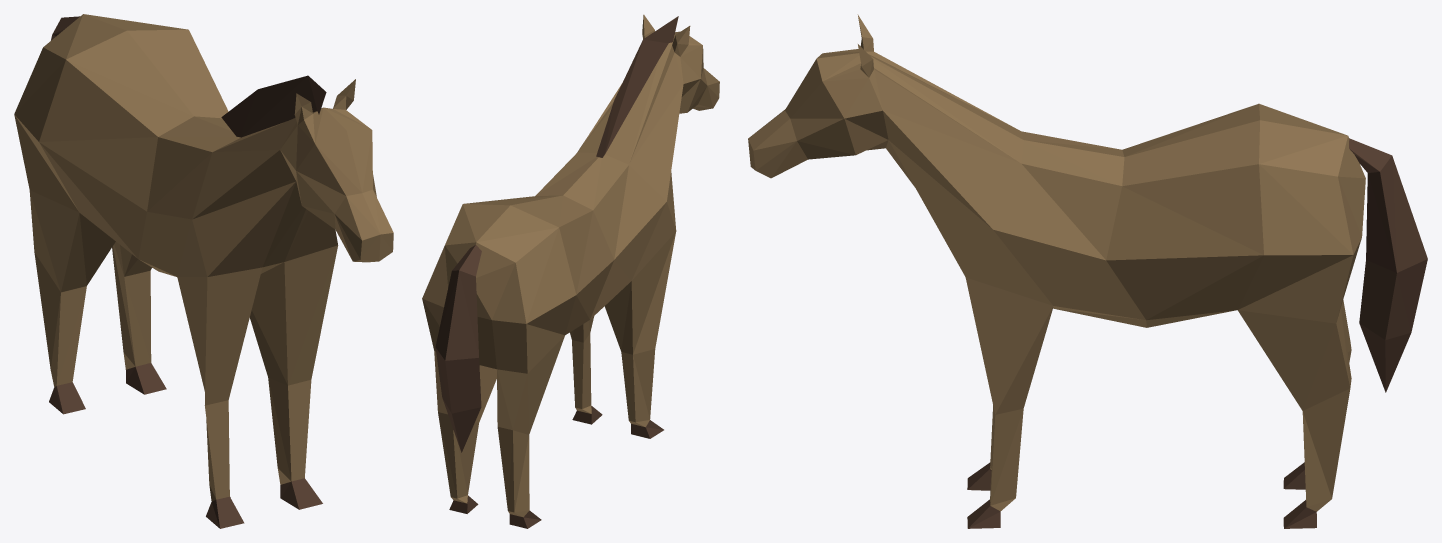
File: foal_4_v000.glb
3 views of the same model, side by side, from view 1: azimuth 30°, elevation 25°; view 2: azimuth 150°, elevation 25°; view 3: azimuth 270°, elevation 25° (orthographic). The views are drawn at different scales.
Parts seen in each view (by area): view 1: world; view 2: world; view 3: world.
Boxes of the visible parts, x1,y1,x2,y2 form: world: [14, 14, 393, 528]; world: [422, 14, 719, 528]; world: [748, 14, 1427, 528].
Bounding box in the file's own units: 0.0745 × 0.1953 × 0.2529.
Materials: 1 (1 with a texture image).
